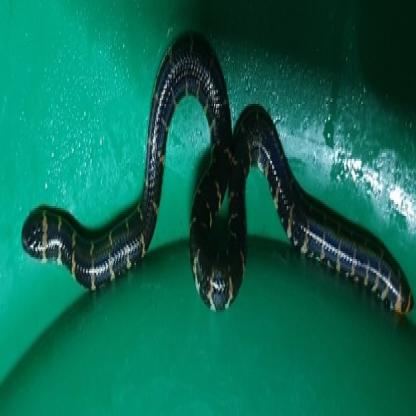Snake: (21, 15, 412, 325)
